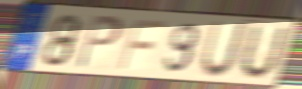8: (42, 13, 82, 69)
9: (165, 21, 201, 75)
F: (115, 17, 168, 71)
P: (74, 13, 125, 71)
U: (197, 18, 252, 81), (236, 22, 291, 81)
